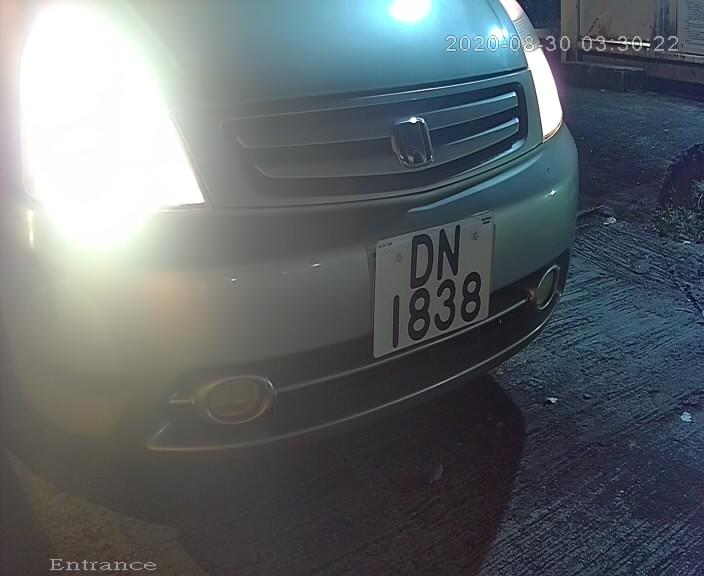License Plate: (365, 201, 494, 371)
